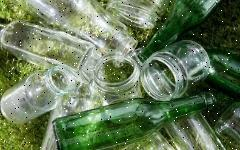glass: (50, 89, 215, 150)
